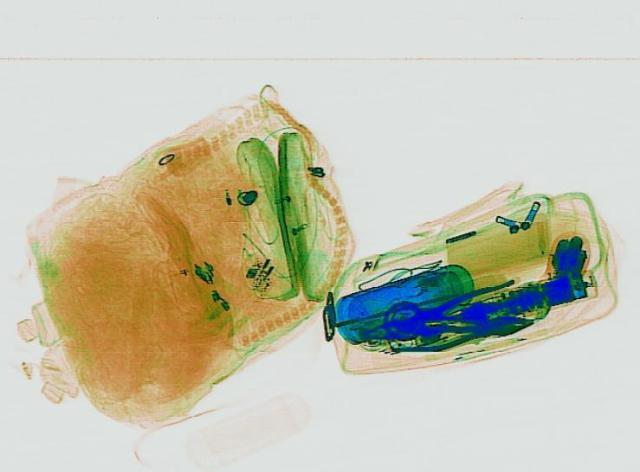Pliers: (383, 274, 533, 345), (380, 303, 538, 356)
